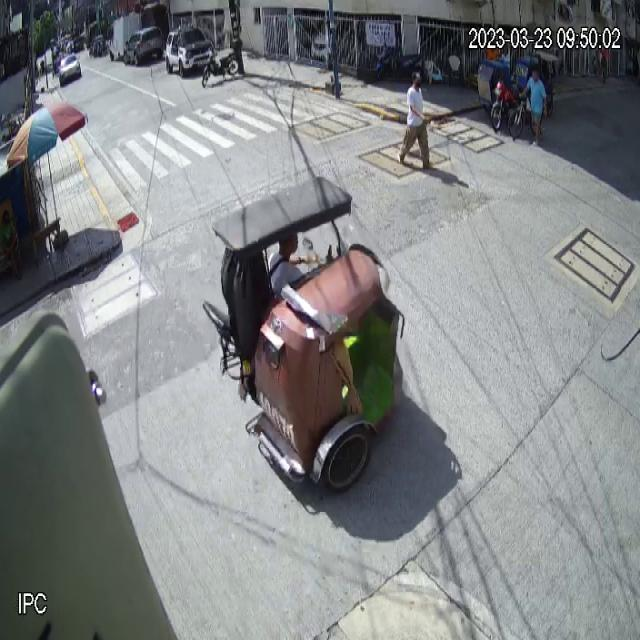Tricycle: (202, 173, 409, 500)
